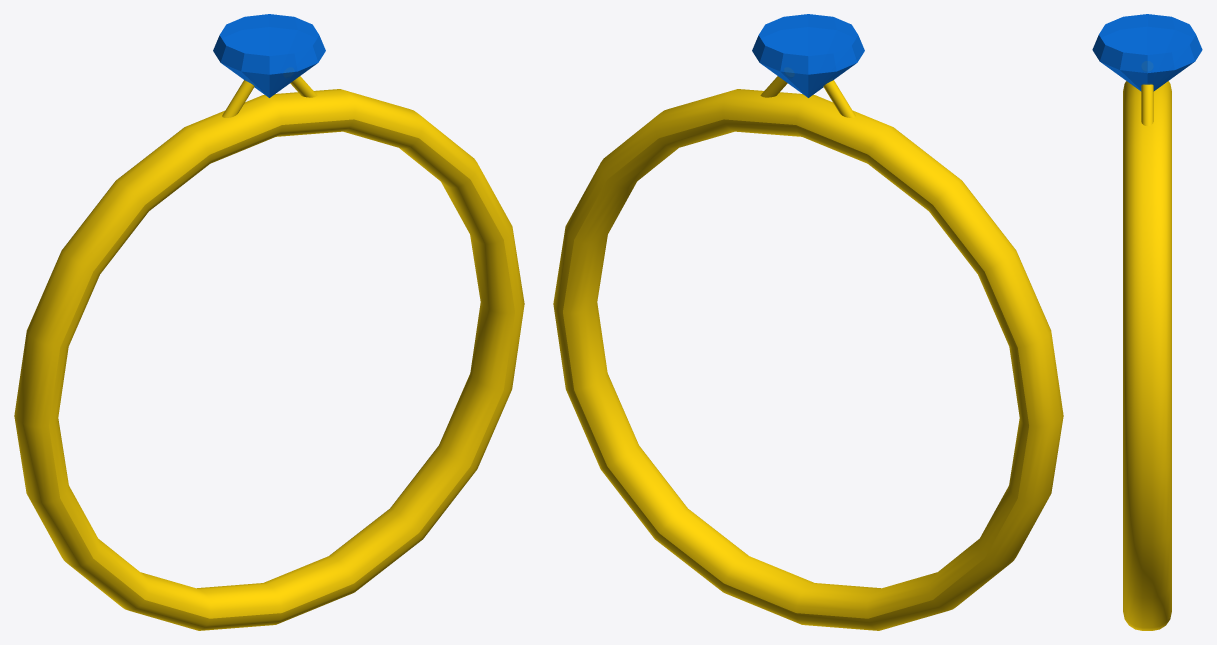
The model's file is sm_ring_1.fbx.
3 renders of one model, left to right at view 1: azimuth 30°, elevation 25°; view 2: azimuth 150°, elevation 25°; view 3: azimuth 270°, elevation 25°, orthographic. The views are drawn at different scales.
Visible parts, largest first — view 1: pCylinder1, gem2:pCylinder1; view 2: pCylinder1, gem2:pCylinder1; view 3: pCylinder1, gem2:pCylinder1, pCylinder2.
Boxes of the visible parts, left/top/right/bottom form: pCylinder1: left=14, top=89, right=524, bottom=630; gem2:pCylinder1: left=213, top=14, right=325, bottom=97; pCylinder1: left=553, top=89, right=1063, bottom=630; gem2:pCylinder1: left=752, top=14, right=864, bottom=97; pCylinder1: left=1123, top=81, right=1171, bottom=630; gem2:pCylinder1: left=1092, top=14, right=1202, bottom=91; pCylinder2: left=1141, top=84, right=1153, bottom=126.
Size of the model in its own units: 925 by 1037 by 181.
